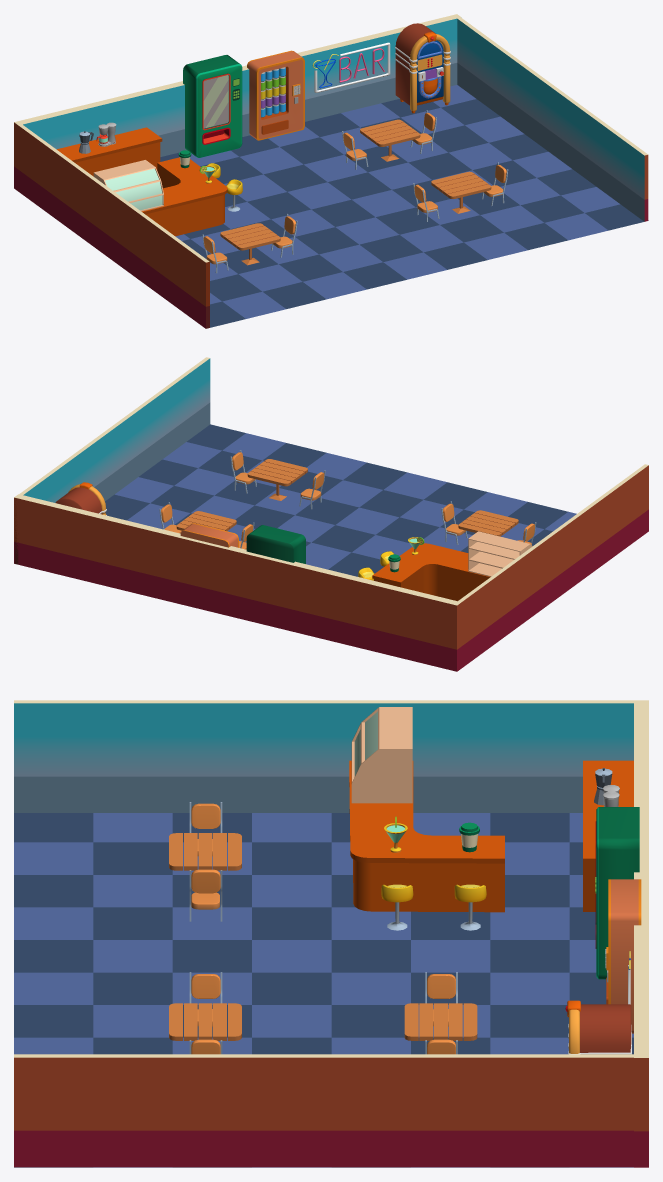
The model's file is Canteen_Winter.fbx.
The picture shows the model from 3 angles, top to bottom: view 1: azimuth 30°, elevation 25°; view 2: azimuth 150°, elevation 25°; view 3: azimuth 270°, elevation 25°; orthographic projection. The views are drawn at different scales.
Visible parts, largest first — view 1: Floor, wall17, wall_half23, wall_half24, pasted__bar.002_bar_0, SodaMachineGreen5, vendingmachine, Jukebox1, pasted__shelf cake.001_shelf cake_0, pCube38, pCube37, pCube39 (+1 smaller); view 2: wall17, Floor, wall_half23, wall_half24, pasted__bar.002_bar_0, pCube38, pasted__shelf cake.001_shelf cake_0, SodaMachineGreen5, pCube39, pCube37, Jukebox1, vendingmachine; view 3: Floor, wall_half24, wall_half23, pasted__bar.002_bar_0, wall17, pasted__shelf cake.001_shelf cake_0, pCube39, SodaMachineGreen5, pCube37, pCube38, vendingmachine, Jukebox1 (+2 smaller).
Part boxes in pixels (box(x1,y1,x2,y2)): Floor: box(160, 85, 648, 327); wall17: box(14, 14, 461, 191); wall_half23: box(14, 121, 209, 328); wall_half24: box(453, 14, 648, 221); pasted__bar.002_bar_0: box(57, 127, 227, 236); SodaMachineGreen5: box(183, 55, 242, 157); vendingmachine: box(247, 50, 304, 140); Jukebox1: box(395, 23, 450, 113); pasted__shelf cake.001_shelf cake_0: box(93, 160, 163, 211); pCube38: box(413, 162, 508, 221); pCube37: box(342, 110, 436, 169); pCube39: box(202, 214, 297, 273); wall17: box(14, 494, 461, 671); Floor: box(105, 424, 576, 576); wall_half23: box(453, 464, 648, 671); wall_half24: box(14, 357, 210, 564); pasted__bar.002_bar_0: box(372, 543, 490, 601); pCube38: box(230, 450, 325, 509); pasted__shelf cake.001_shelf cake_0: box(468, 531, 532, 576); SodaMachineGreen5: box(246, 525, 305, 563); pCube39: box(441, 501, 536, 544); pCube37: box(159, 502, 254, 549); Jukebox1: box(55, 482, 106, 515); vendingmachine: box(180, 523, 238, 547); Floor: box(14, 813, 633, 1167); wall_half24: box(14, 1054, 648, 1167); wall_half23: box(14, 700, 648, 812); pasted__bar.002_bar_0: box(349, 760, 633, 912); wall17: box(634, 700, 648, 1167); pasted__shelf cake.001_shelf cake_0: box(351, 707, 412, 803); pCube39: box(169, 802, 241, 921); SodaMachineGreen5: box(595, 807, 639, 979); pCube37: box(404, 972, 477, 1054); pCube38: box(169, 972, 241, 1054); vendingmachine: box(605, 879, 641, 1033); Jukebox1: box(565, 1000, 631, 1054).
Bounding box in the file's own units: 1400 × 258 × 1050.
